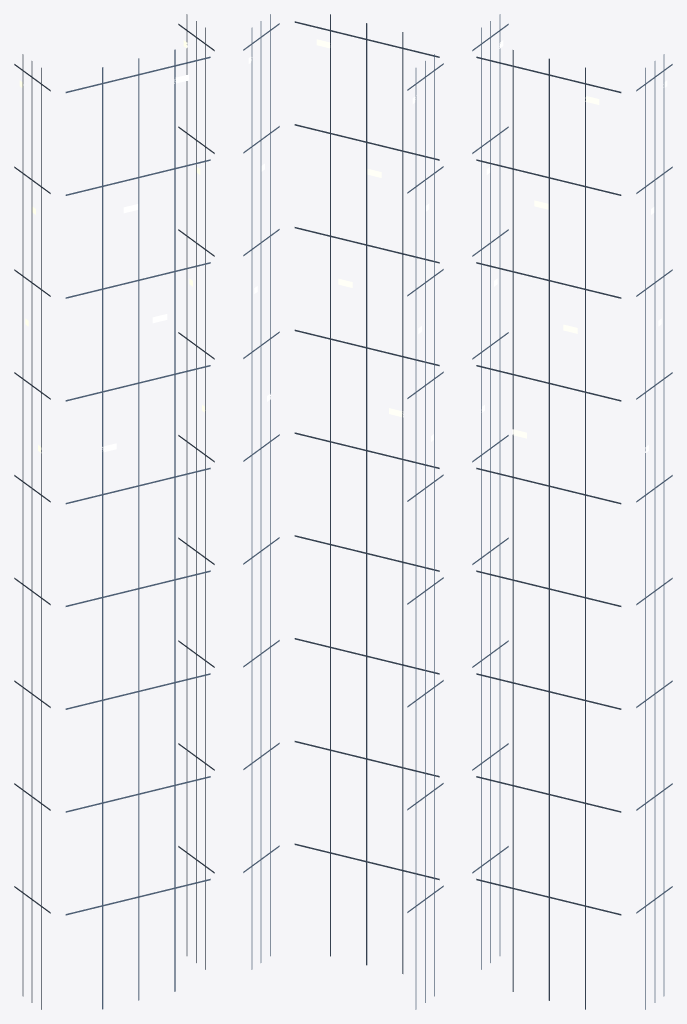
File: SM_MM_W02_Facade.fbx
The picture shows the model from 3 angles, left to right: view 1: azimuth 30°, elevation 25°; view 2: azimuth 150°, elevation 25°; view 3: azimuth 330°, elevation 25°; orthographic projection.
Parts seen in each view (by area): view 1: SM_MM_W02_Facade; view 2: SM_MM_W02_Facade; view 3: SM_MM_W02_Facade.
Part boxes in pixels (x1=…): SM_MM_W02_Facade: x1=14, y1=14, x2=214, y2=1009; SM_MM_W02_Facade: x1=243, y1=14, x2=443, y2=1009; SM_MM_W02_Facade: x1=472, y1=14, x2=672, y2=1009.
Size of the model in its own units: 20.05 by 8.88 by 110.
